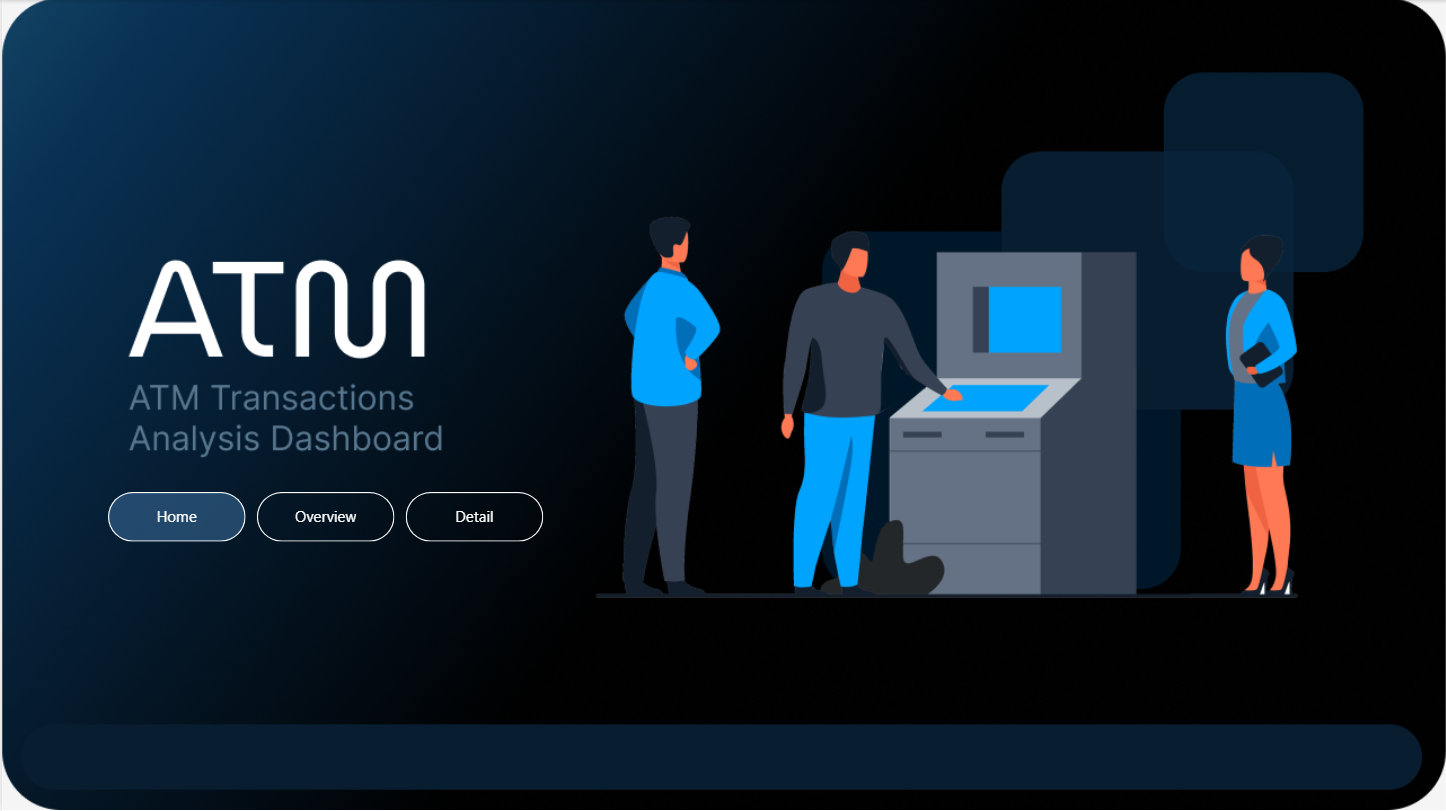

Layout of this report page (visuals, bound fields, positions):
{"tool":"powerbi","page":{"name":"Home","canvas":[1280,720],"ordinal":0},"visuals":[{"type":"pageNavigator","box":[94,436.6,388,44.2],"z":0}]}

Visuals, with their boxes in screenshot pixels (x1, y1, x2, y2), scaled from the page's 1280x720 canvas onto the 1446x811 screenshot:
pageNavigator: 106/492/545/542
